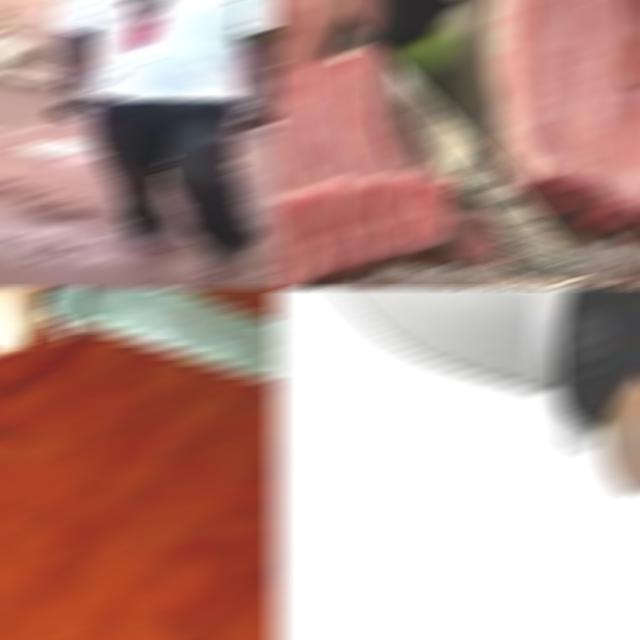Knife: (32, 289, 280, 389), (201, 116, 256, 142)
Knife_Handle: (270, 1, 588, 284), (296, 289, 640, 541), (0, 289, 280, 408), (198, 99, 280, 147)
